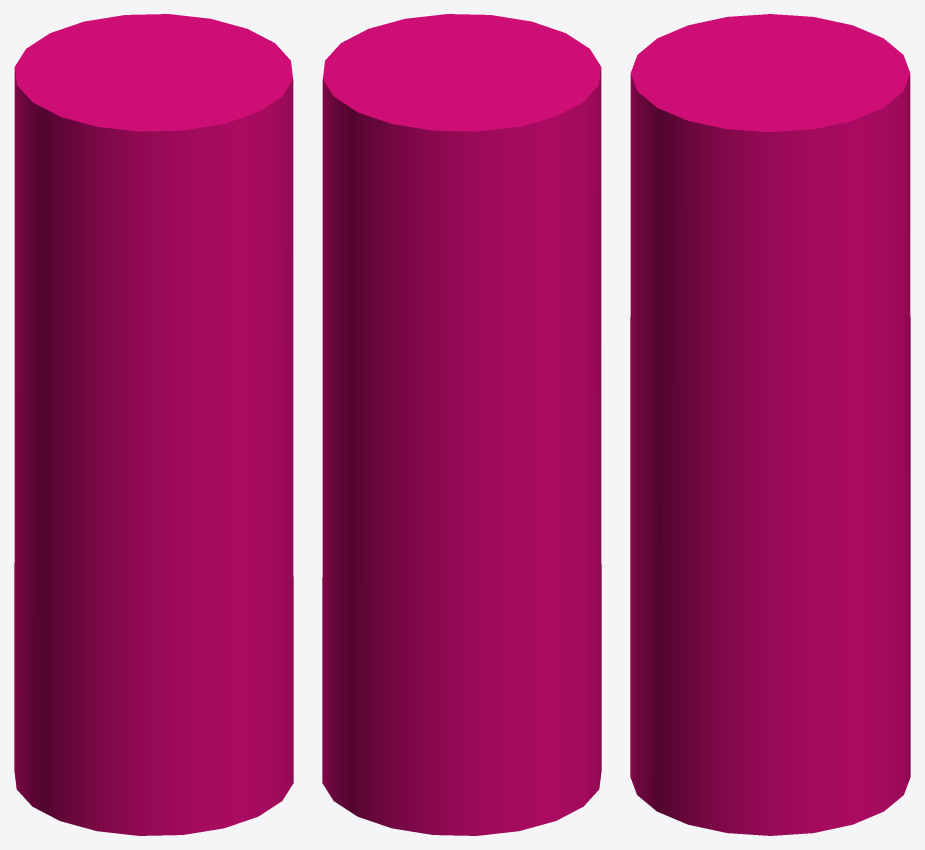
File: Household_06_Lod0.fbx
The picture shows the model from 3 angles, left to right: view 1: azimuth 30°, elevation 25°; view 2: azimuth 150°, elevation 25°; view 3: azimuth 270°, elevation 25°; orthographic projection.
Visible parts, largest first — view 1: Household_06_Lod0; view 2: Household_06_Lod0; view 3: Household_06_Lod0.
Part boxes in pixels (box(x1,y1,x2,y2)): Household_06_Lod0: box(14, 14, 293, 835); Household_06_Lod0: box(322, 14, 601, 835); Household_06_Lod0: box(630, 14, 910, 835).
Size of the model in its own units: 10.34 by 28.62 by 10.34.
